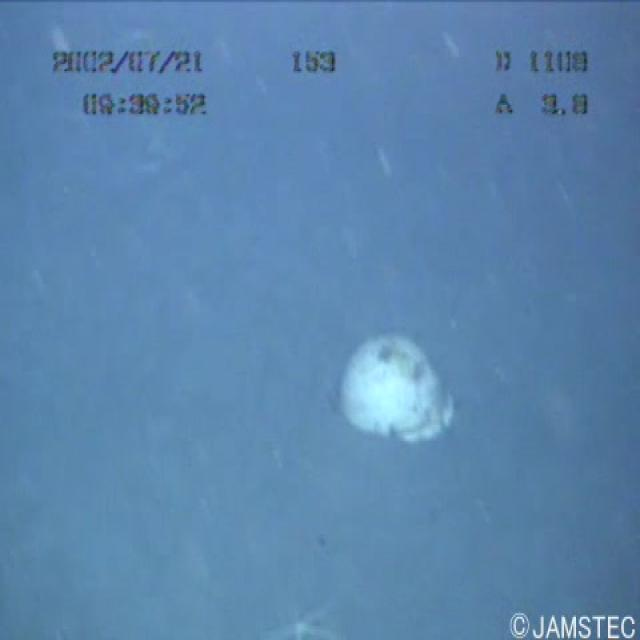plastic: (320, 318, 475, 450)
